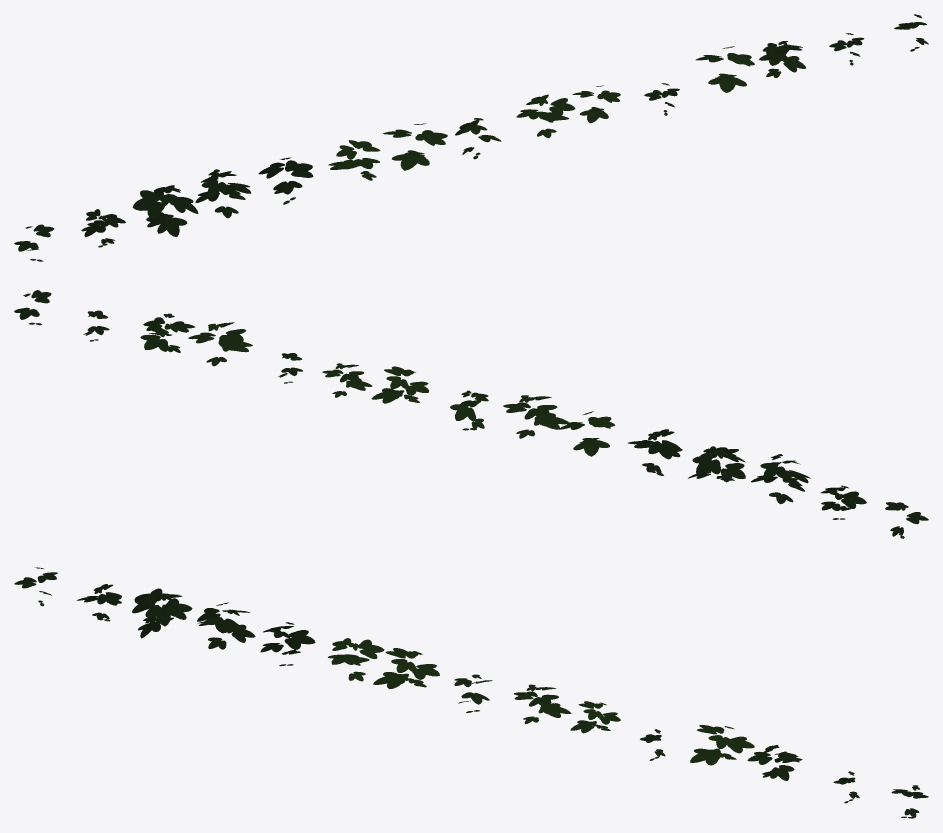
File: ROW_13_SEG2_foliage.dae
The picture shows the model from 3 angles, top to bottom: view 1: azimuth 30°, elevation 25°; view 2: azimuth 150°, elevation 25°; view 3: azimuth 330°, elevation 25°; orthographic projection.
Parts seen in each view (by area): view 1: ROW_13_SEG2_foliage; view 2: ROW_13_SEG2_foliage; view 3: ROW_13_SEG2_foliage.
Part boxes in pixels (left/top/right/bottom): ROW_13_SEG2_foliage: left=14, top=14, right=928, bottom=261; ROW_13_SEG2_foliage: left=14, top=290, right=928, bottom=538; ROW_13_SEG2_foliage: left=14, top=567, right=928, bottom=818.
Size of the model in its own units: 4.45 by 0.301 by 0.2228.
